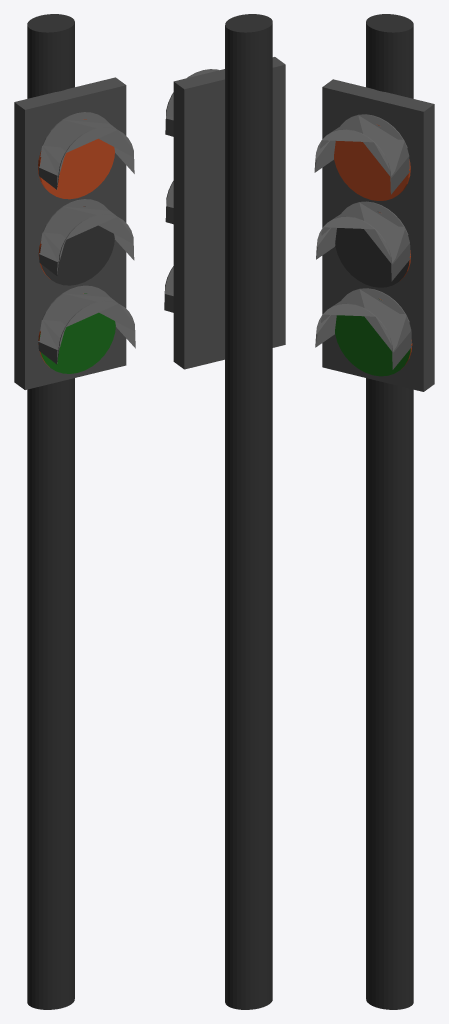
Rendered from trafficLight.glb.
3 renders of one model, left to right at view 1: azimuth 30°, elevation 25°; view 2: azimuth 210°, elevation 25°; view 3: azimuth 330°, elevation 25°, orthographic.
Parts seen in each view (by area): view 1: Cylinder, Cube.003, Cylinder.008, Cylinder.003, Cylinder.006, Cylinder.007, Cylinder.002, Cylinder.005; view 2: Cylinder, Cube.003, Cylinder.003, Cylinder.008; view 3: Cylinder, Cube.003, Cylinder.008, Cylinder.003, Cylinder.006, Cylinder.007, Cylinder.002, Cylinder.005.
Part boxes in pixels (left/top/right/bottom): Cylinder: left=27, top=14, right=74, bottom=1009; Cube.003: left=14, top=77, right=126, bottom=389; Cylinder.008: left=38, top=285, right=135, bottom=364; Cylinder.003: left=38, top=112, right=134, bottom=189; Cylinder.006: left=39, top=199, right=134, bottom=275; Cylinder.007: left=38, top=293, right=115, bottom=373; Cylinder.002: left=38, top=119, right=114, bottom=199; Cylinder.005: left=38, top=206, right=114, bottom=285; Cylinder: left=225, top=14, right=272, bottom=1009; Cube.003: left=173, top=57, right=285, bottom=369; Cylinder.003: left=165, top=69, right=219, bottom=136; Cylinder.008: left=164, top=266, right=173, bottom=312; Cylinder: left=366, top=14, right=413, bottom=1009; Cube.003: left=322, top=79, right=434, bottom=391; Cylinder.008: left=315, top=288, right=411, bottom=369; Cylinder.003: left=314, top=114, right=409, bottom=194; Cylinder.006: left=316, top=201, right=410, bottom=281; Cylinder.007: left=335, top=299, right=412, bottom=376; Cylinder.002: left=334, top=124, right=410, bottom=200; Cylinder.005: left=335, top=212, right=410, bottom=287.
Bounding box in the file's own units: 0.3979 × 3.67 × 0.3527.
